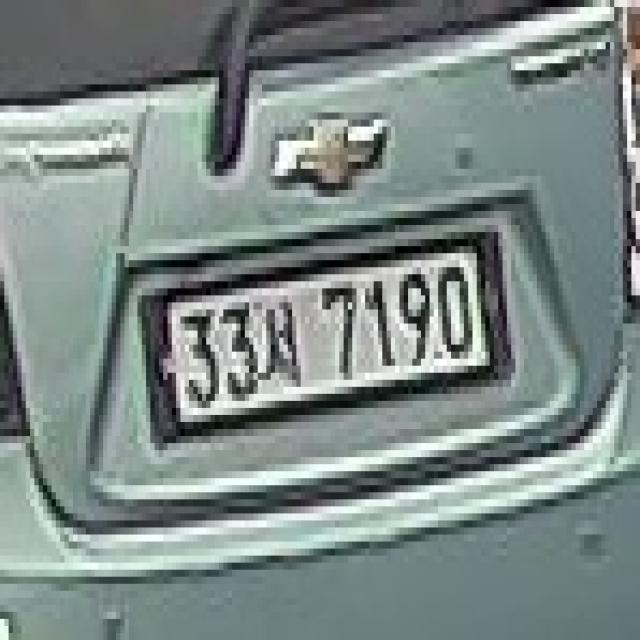0: (438, 267, 473, 366)
1: (361, 274, 391, 366)
3: (176, 302, 219, 408), (219, 295, 258, 401)
7: (322, 281, 357, 373)
9: (395, 274, 434, 366)
license_plate: (159, 232, 494, 429)
seo: (258, 295, 305, 387)
